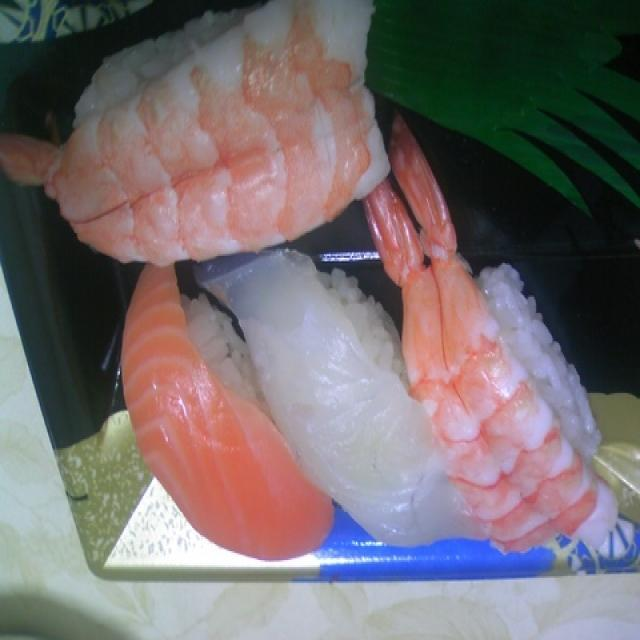Sushi: (113, 238, 598, 550)
